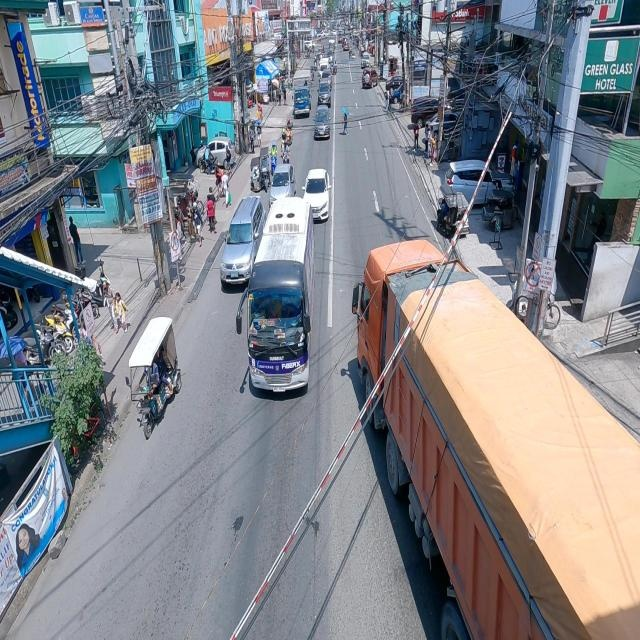Bus: (244, 183, 318, 397)
Truck: (352, 231, 640, 640)
